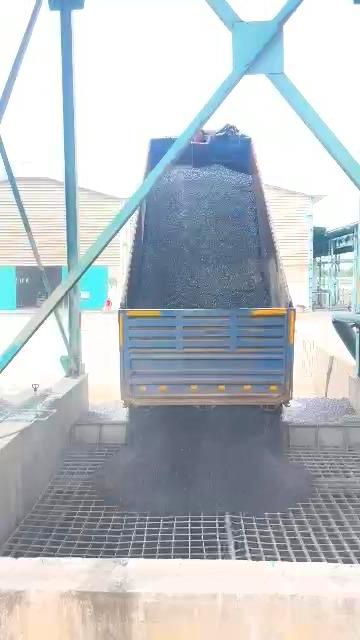gravel: (93, 407, 311, 515), (129, 166, 270, 308), (284, 397, 355, 425)
